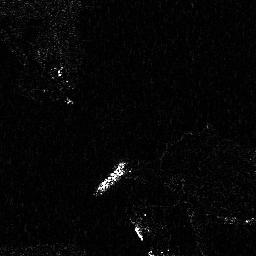ship: (94, 160, 131, 196)
